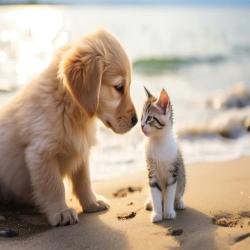cat: (142, 82, 193, 226)
dog: (3, 19, 141, 245)
